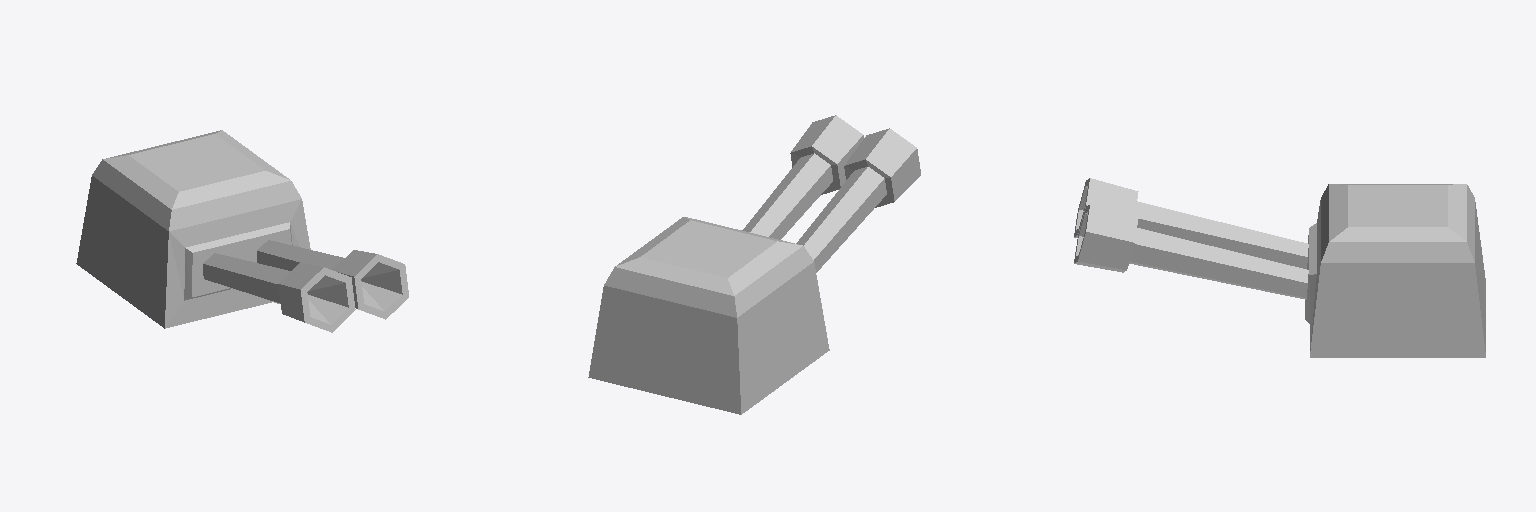
File: EnemyShipCannon.obj
3 views of the same model, side by side, from view 1: azimuth 30°, elevation 25°; view 2: azimuth 150°, elevation 25°; view 3: azimuth 270°, elevation 25° (orthographic).
Visible parts, largest first — view 1: Cylinder.010; view 2: Cylinder.010; view 3: Cylinder.010.
Part boxes in pixels (x1,y1,x2,y2): Cylinder.010: (76, 130, 408, 332); Cylinder.010: (588, 115, 920, 414); Cylinder.010: (1074, 178, 1485, 357).
Bounding box in the file's own units: 0.2582 × 0.2093 × 0.6029.